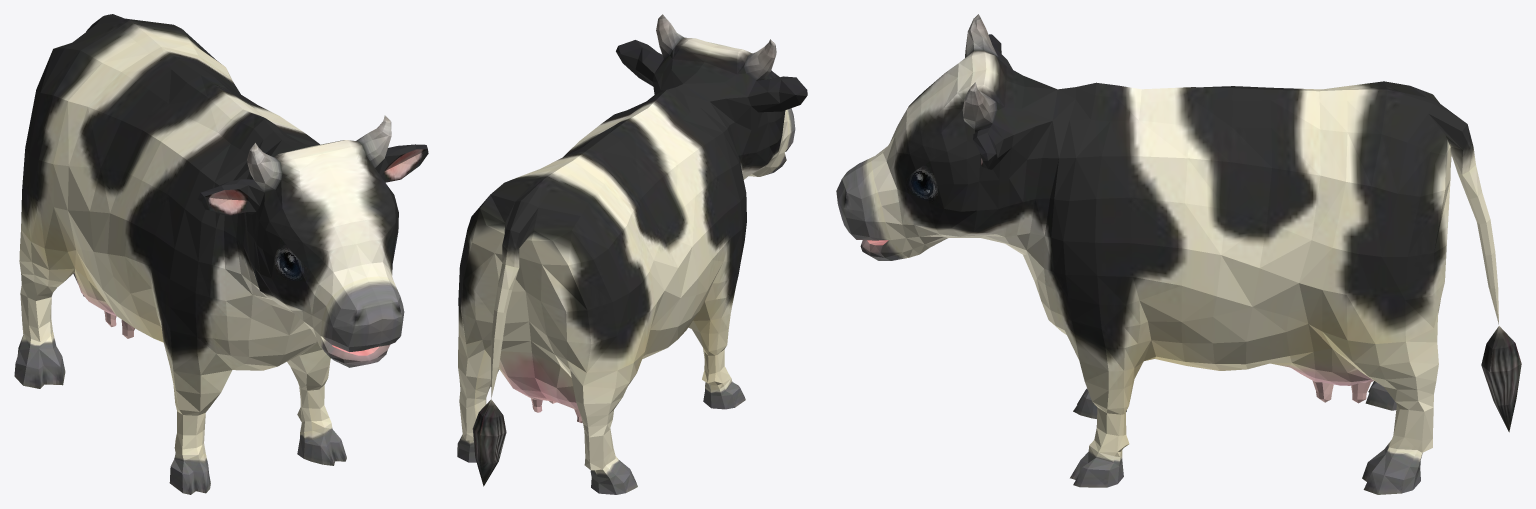
File: BEU9FDFGSRQ3OO82FMK7AYS8H.fbx
3 views of the same model, side by side, from view 1: azimuth 30°, elevation 25°; view 2: azimuth 150°, elevation 25°; view 3: azimuth 270°, elevation 25° (orthographic). The views are drawn at different scales.
Visible parts, largest first — view 1: Object_Body.jpg, Object_Eye.jpg; view 2: Object_Body.jpg; view 3: Object_Body.jpg, Object_Eye.jpg.
Boxes of the visible parts, box(x1,y1,x2,y2) form: Object_Body.jpg: box(14, 14, 428, 494); Object_Eye.jpg: box(271, 234, 397, 281); Object_Body.jpg: box(457, 14, 807, 494); Object_Body.jpg: box(836, 14, 1521, 494); Object_Eye.jpg: box(904, 161, 943, 208).
Bounding box in the file's own units: 1 × 1.62 × 2.5.
